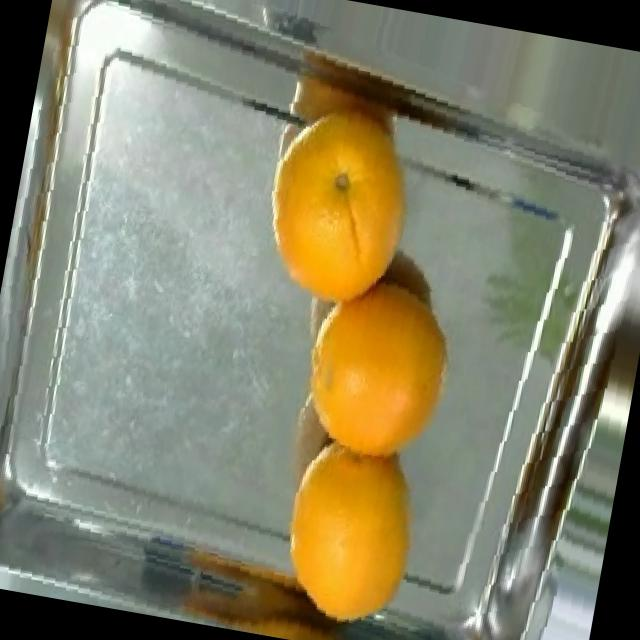Fruit: (243, 88, 441, 334), (257, 416, 448, 640)
